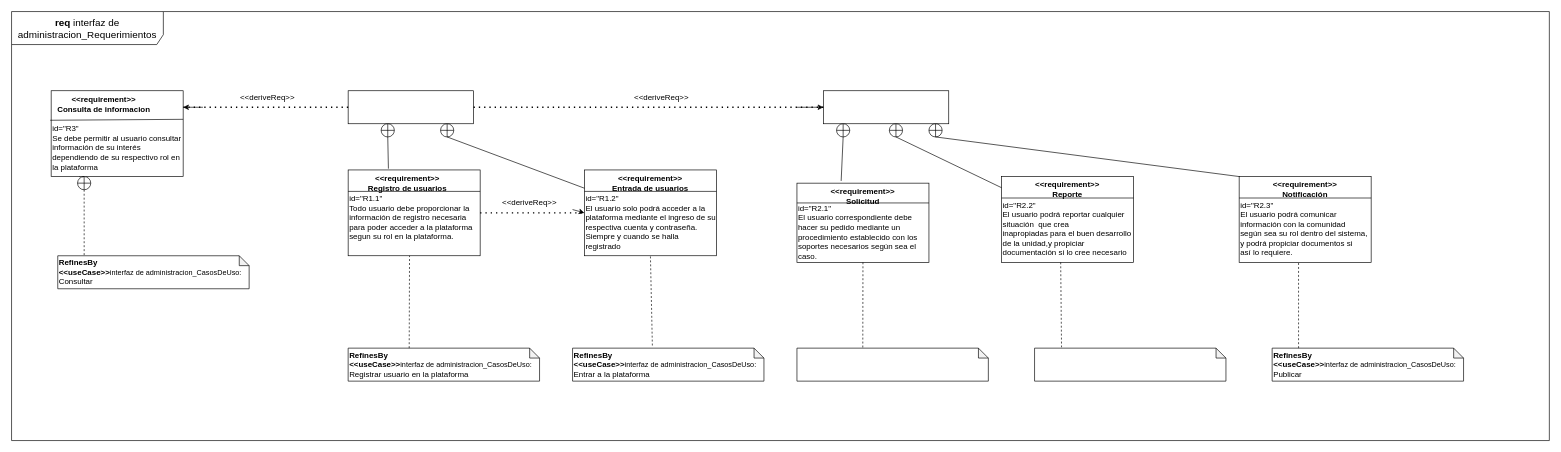
Some shapes in this 1561 by 452 pixel diagram are drawn without their labels. The shapes that lost their labels are listed below. From the top down, each one's box as (x1, y1, x2, y2) in pixels, then its label:
(347, 90, 474, 124): <<requirement>> Acceder a la plataforma
(823, 90, 949, 124): <<requirement>> Gestion de informacion
(796, 347, 988, 381): RefinesBy <<useCase>> interfaz de administracion_CasosDeUso: Solicitar
(1034, 347, 1226, 381): RefinesBy <<useCase>> interfaz de administracion_CasosDeUso: Reportar
